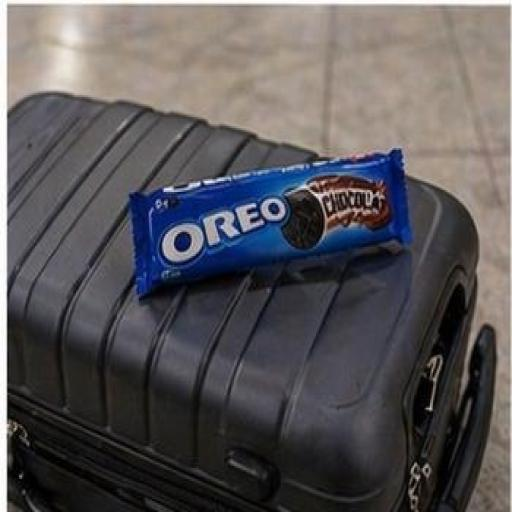oreo: (103, 94, 447, 340)
